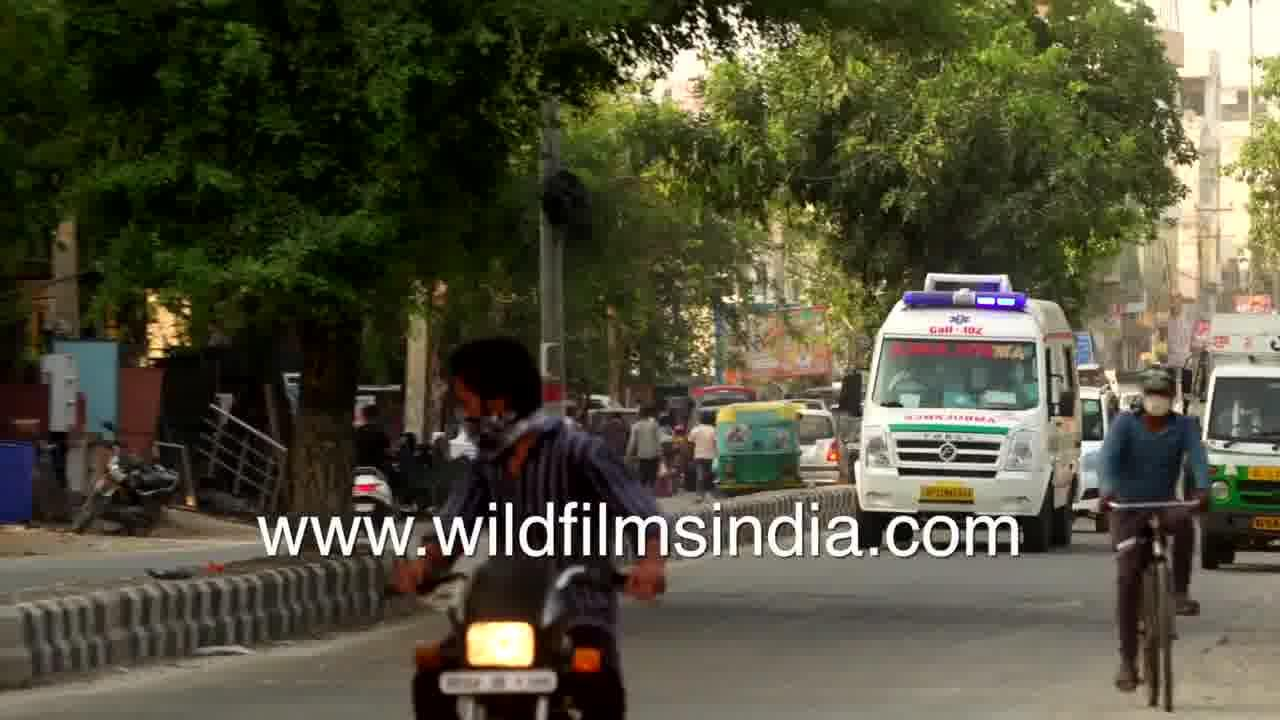AMBULANCE: (850, 245, 1077, 552)
